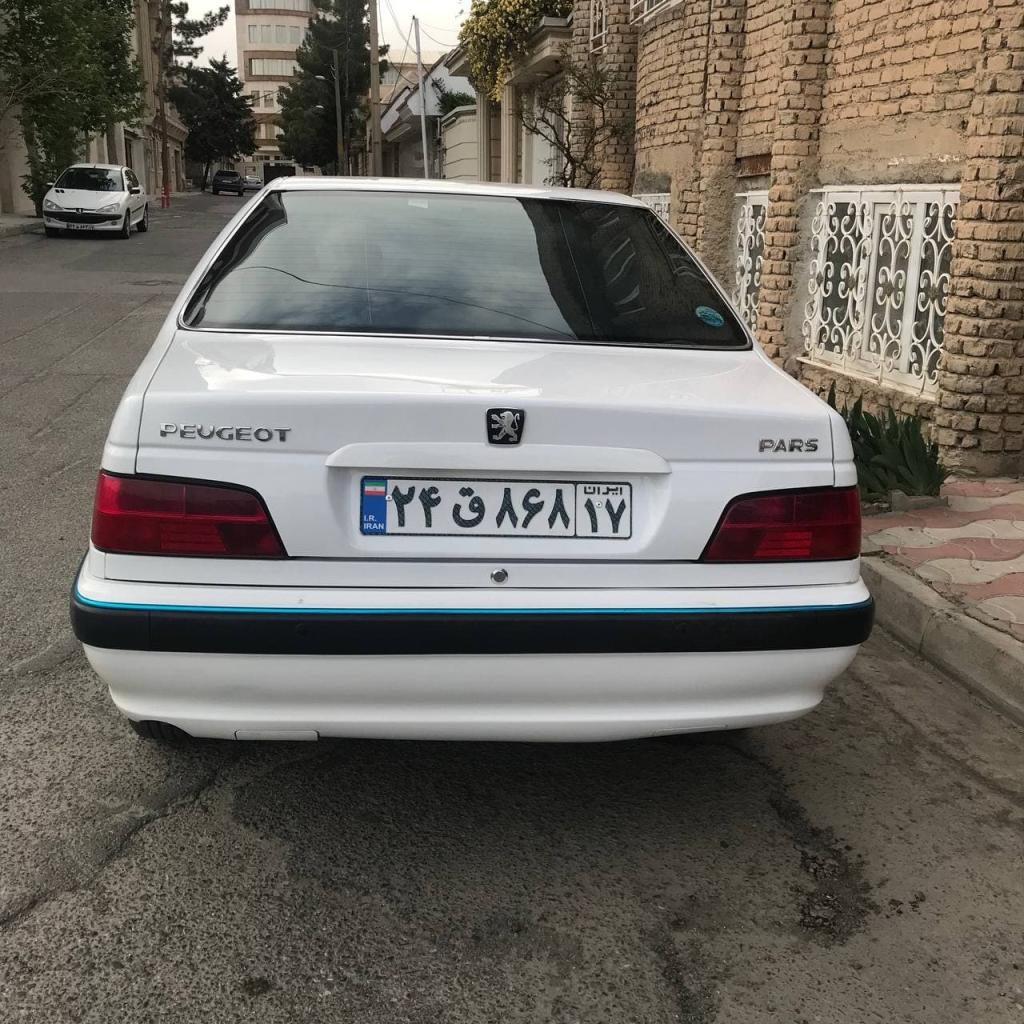Plates: (360, 476, 631, 538)
